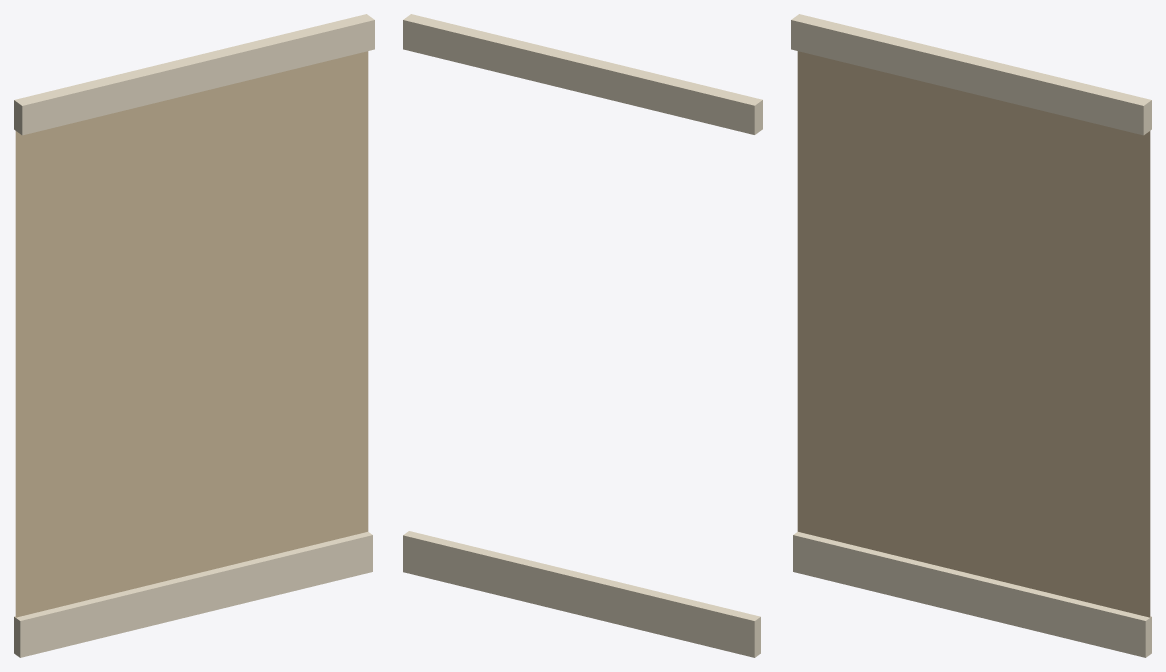
Rendered from Wall.glb.
3 views of the same model, side by side, from view 1: azimuth 30°, elevation 25°; view 2: azimuth 150°, elevation 25°; view 3: azimuth 330°, elevation 25° (orthographic).
Parts seen in each view (by area): view 1: PBK_Indochine_Wall_Exterior_Surface.001, PBK_base_trim.001, PBK_floor_band.048; view 2: PBK_base_trim.001, PBK_floor_band.048; view 3: PBK_Indochine_Wall_Exterior_Surface.001, PBK_base_trim.001, PBK_floor_band.048.
Part boxes in pixels (box(x1,y1,x2,y2)): PBK_Indochine_Wall_Exterior_Surface.001: box(15, 51, 368, 617); PBK_base_trim.001: box(14, 532, 372, 657); PBK_floor_band.048: box(14, 14, 374, 135); PBK_base_trim.001: box(403, 531, 760, 657); PBK_floor_band.048: box(403, 14, 762, 134); PBK_Indochine_Wall_Exterior_Surface.001: box(797, 51, 1150, 617); PBK_base_trim.001: box(793, 532, 1151, 657); PBK_floor_band.048: box(791, 14, 1151, 135).
Bounding box in the file's own units: 2 × 3 × 0.08.
